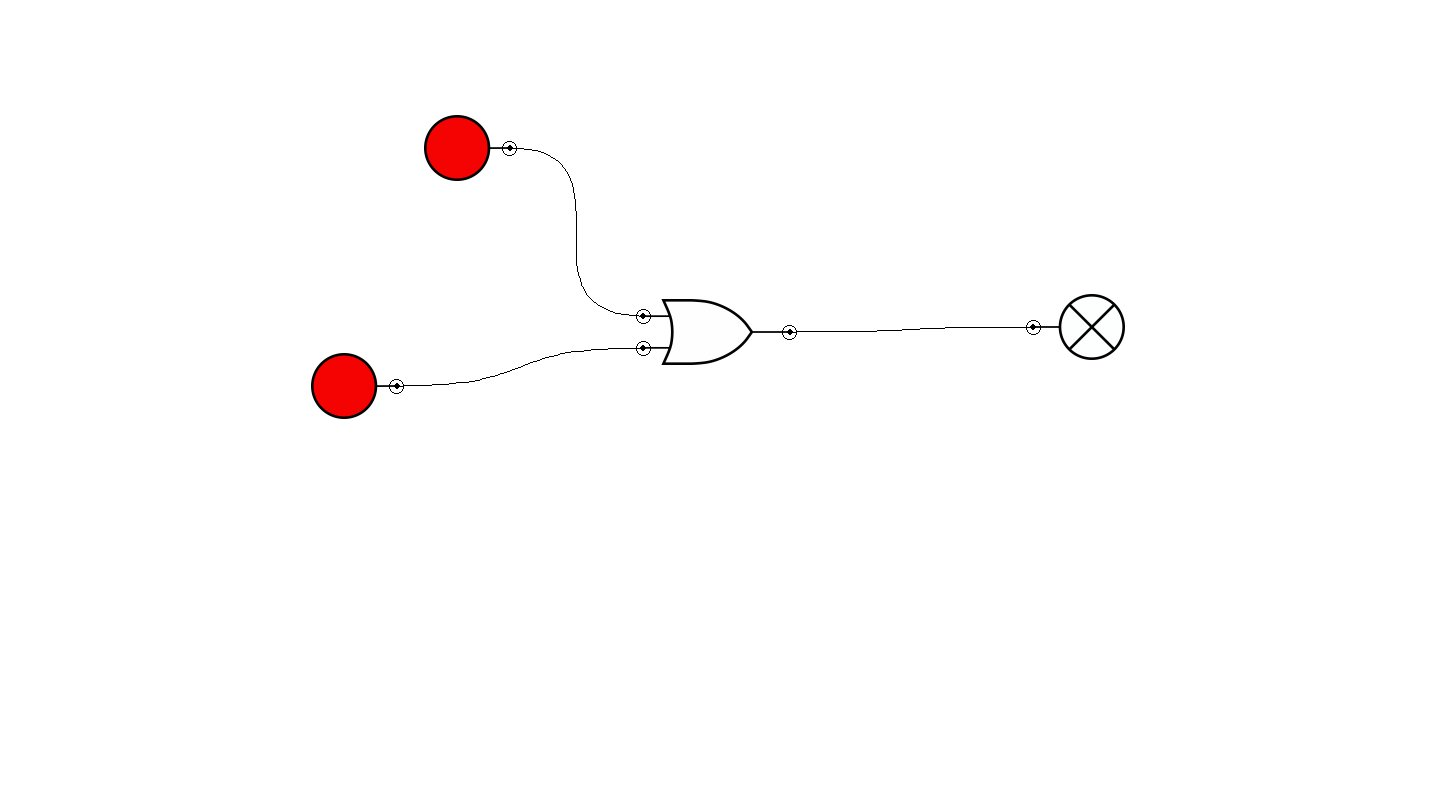bulb: (1026, 294, 1125, 360)
or: (636, 299, 797, 365)
switch_False: (311, 353, 404, 419), (424, 115, 517, 181)
